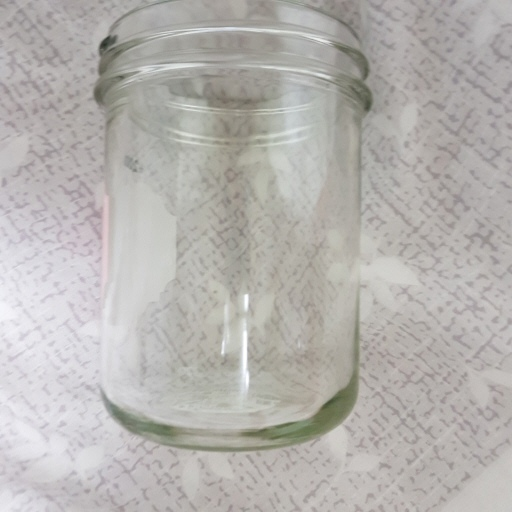Glass_5: (93, 4, 371, 446)
